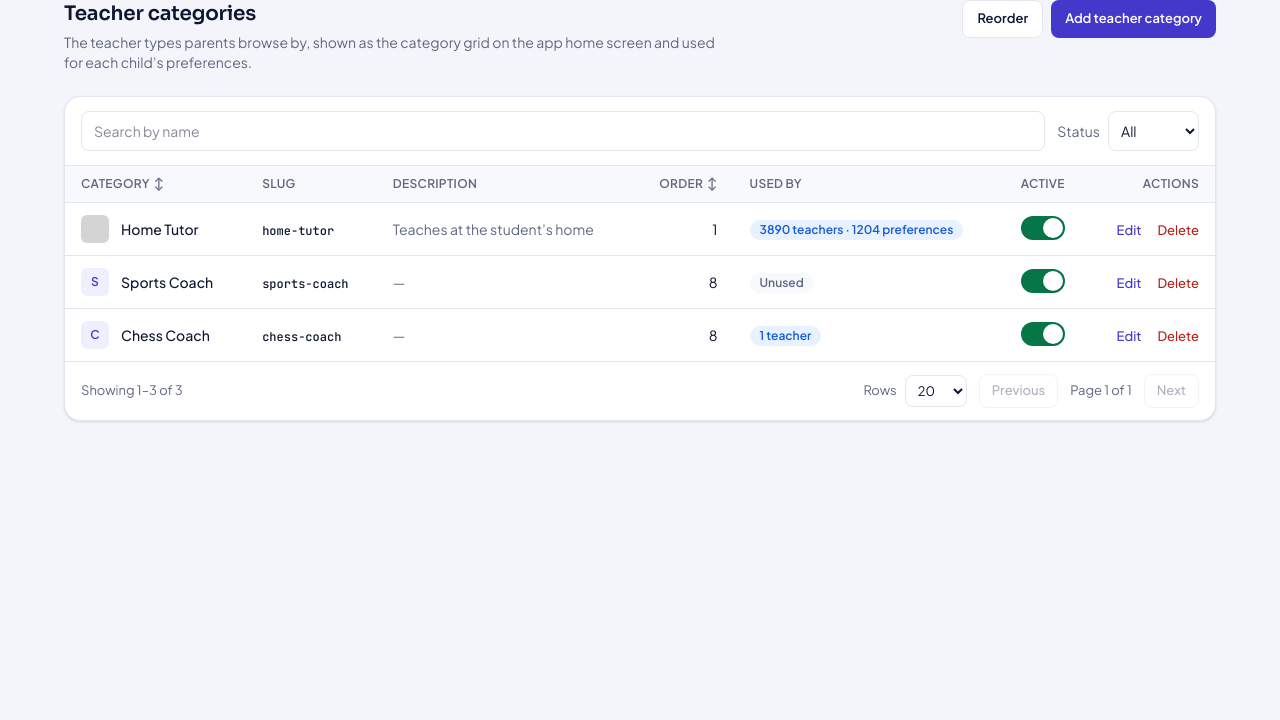
Test: teacher categories list page › leaves the category on when the confirmation is cancelled
Click the switch named "Chess Coach active" at (1043, 334), box top-left (1021, 322), bottom-right (1065, 346)
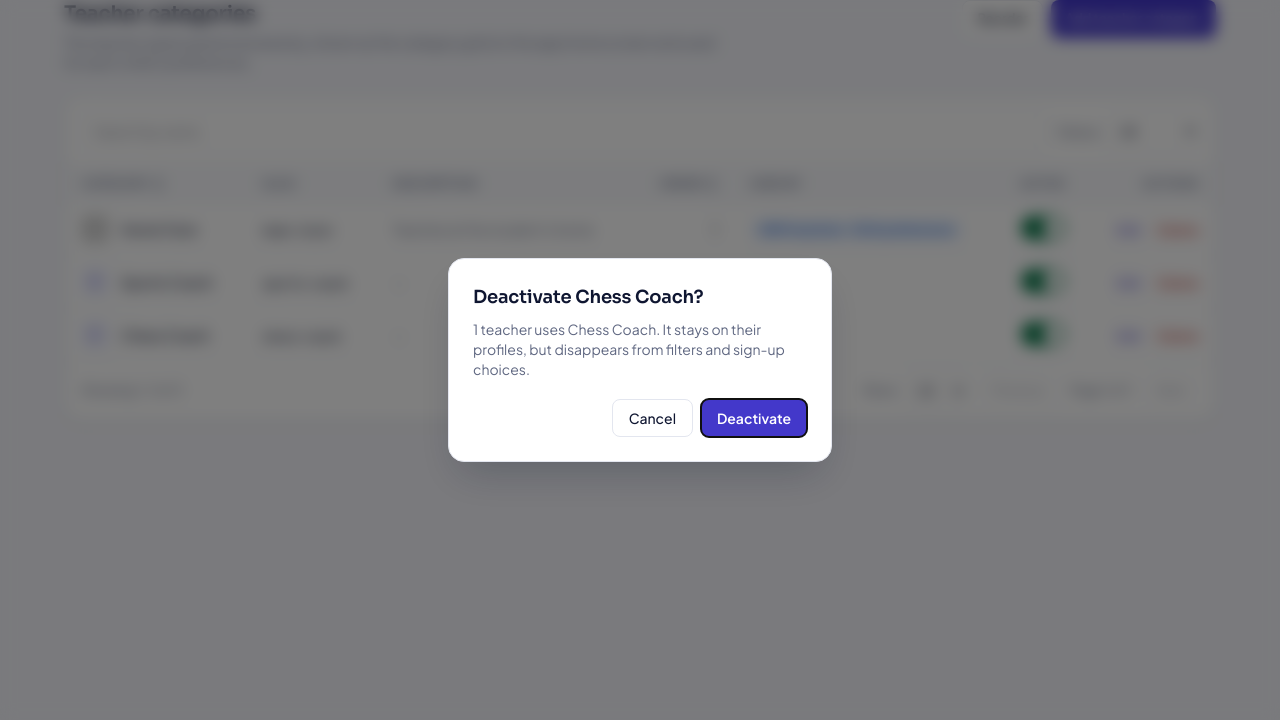
Click the button "Cancel" at (652, 418), box top-left (612, 399), bottom-right (693, 437)
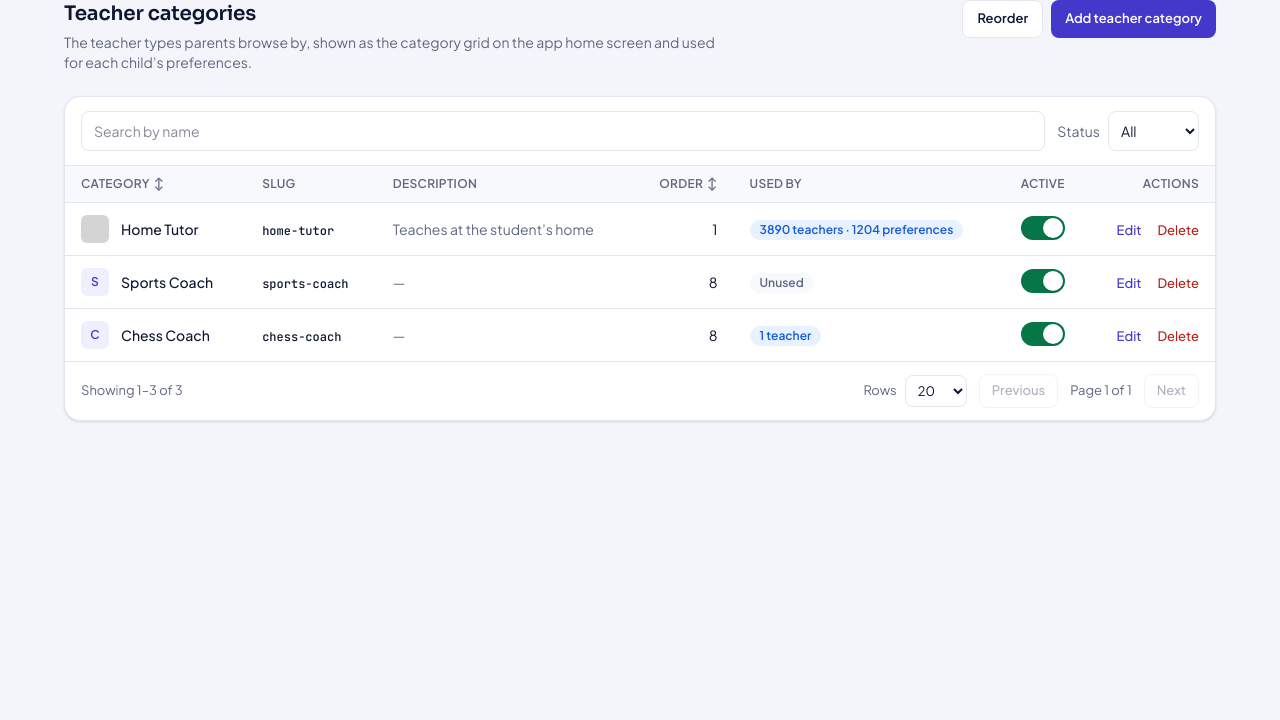
Expected: the switch named "Chess Coach active" is checked, top-left (1021, 322), bottom-right (1065, 346)
Result: the dialog is gone
